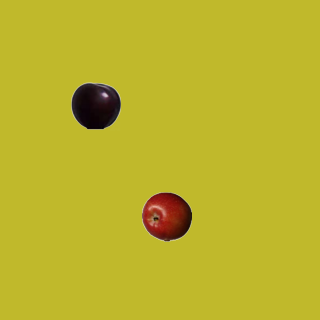Apple Braeburn: (141, 191, 191, 241)
Cherry Wax Black: (70, 80, 120, 130)
